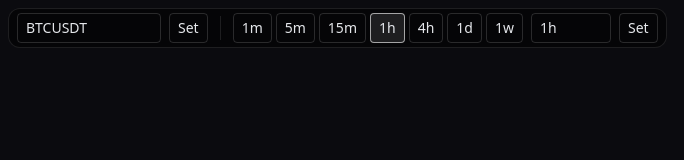
Scenario: SymbolTfBar › Symbol Suggestions Menu › filters suggestions based on input
Replace the text in the 1st field with placeholder "Symbol" with "ETH": [89, 28] box [17,13,161,43]
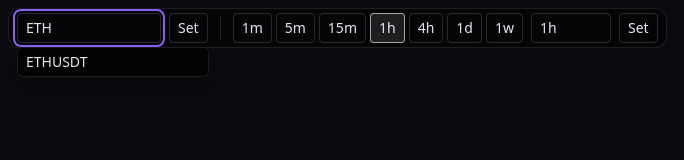
Check: the button "ETHUSDT" is shown, box [18,48,208,76]
Check: the button "BTCUSDT" is gone
